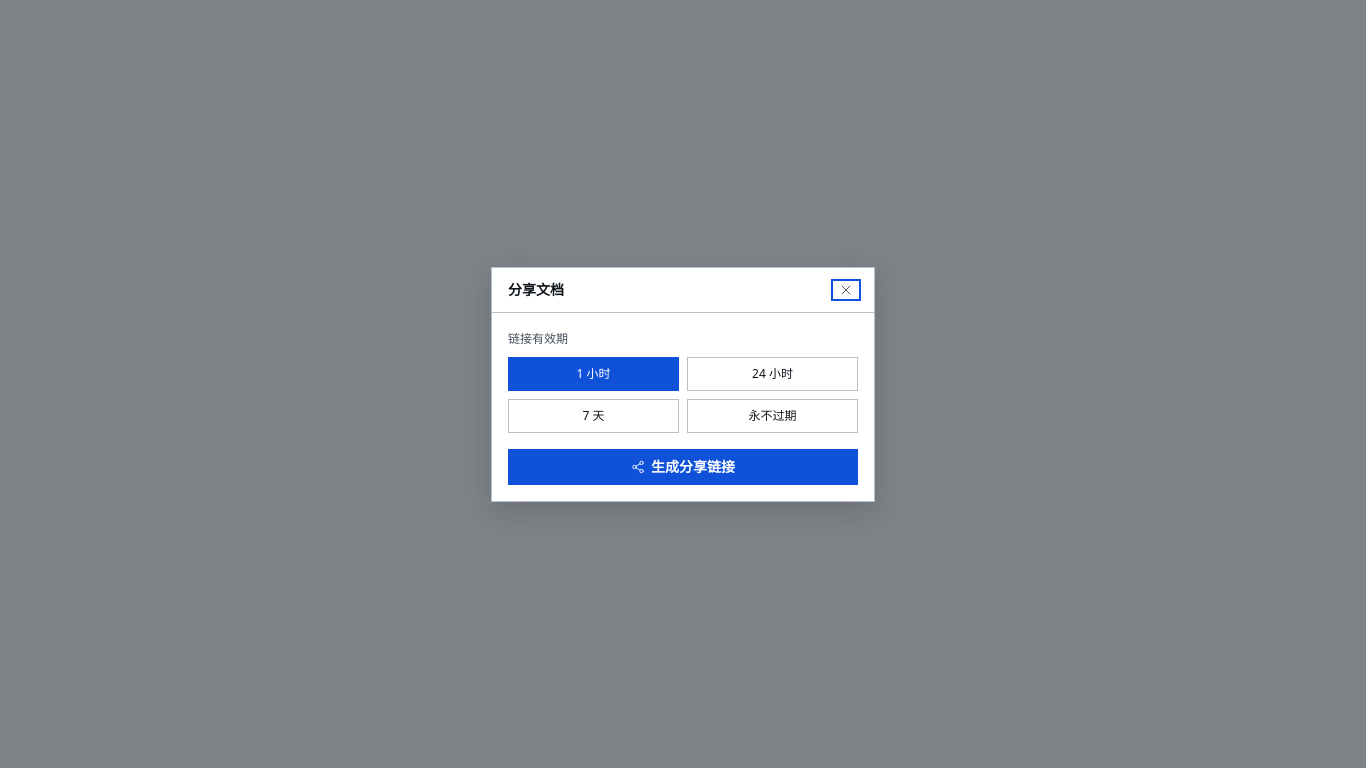
it: ShareModal › uses the backend LAN URL and reports successful creation
Click the button with test id "share-create-btn". click: (683, 466)
box: [508,448,858,484]
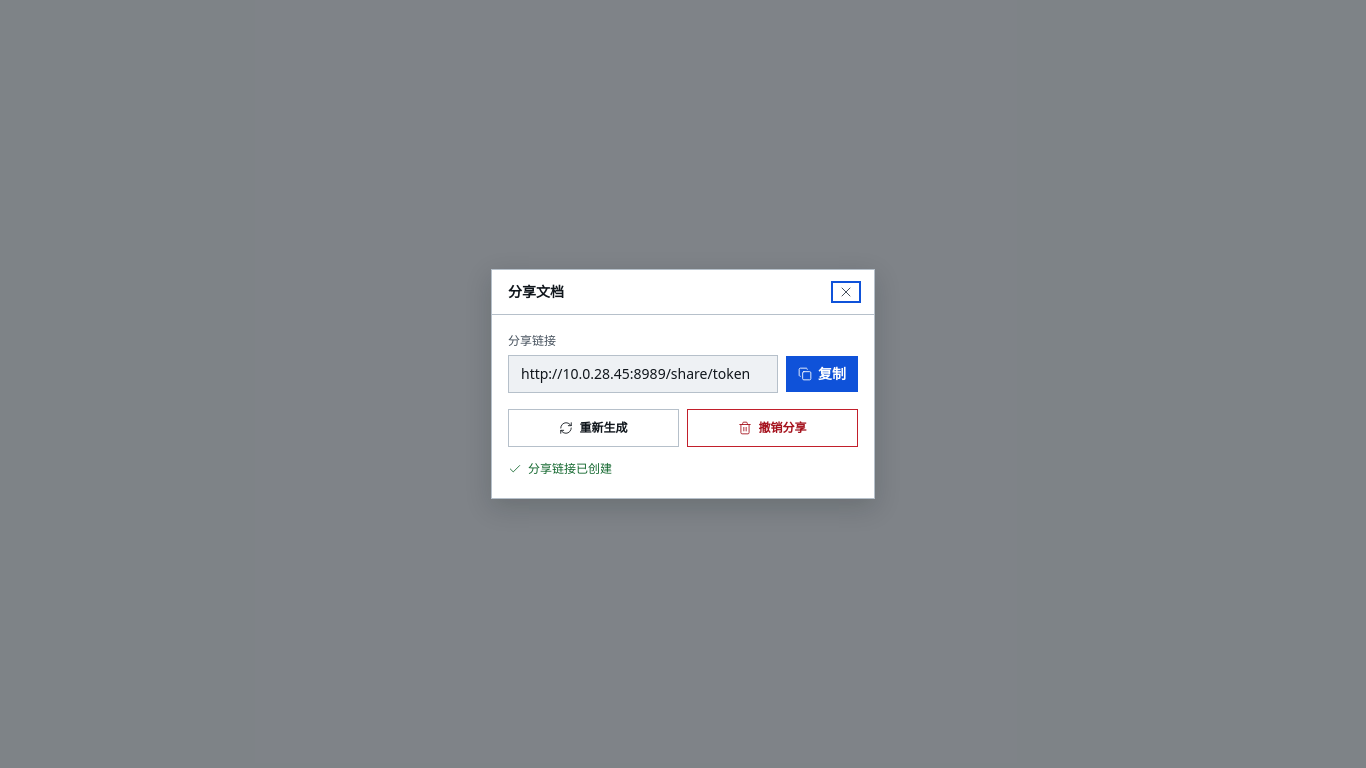
Check: the field with test id "share-link-input" holds "http://10.0.28.45:8989/share/token", box [508,355,778,393]
Check: the message reads "分享链接已创建", box [528,460,612,477]
